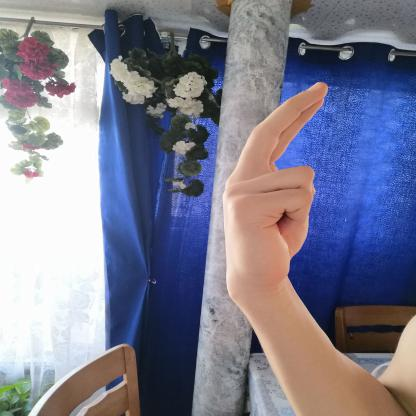ZAY: (212, 70, 340, 305)
